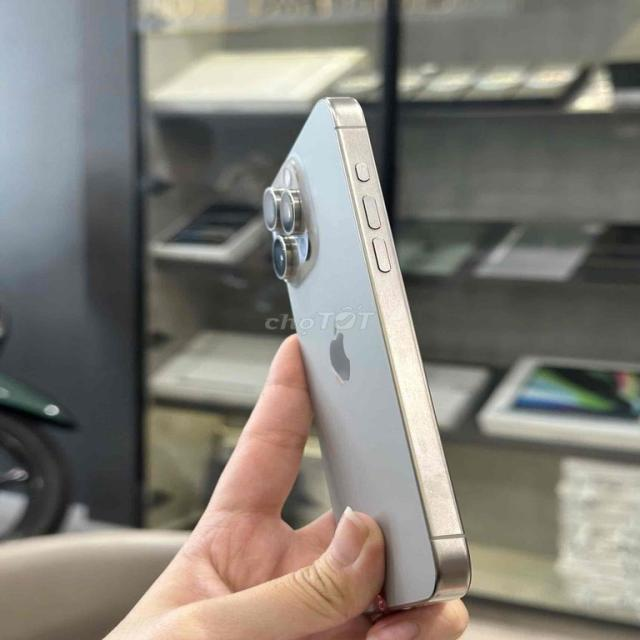gen_15: (235, 83, 496, 631)
